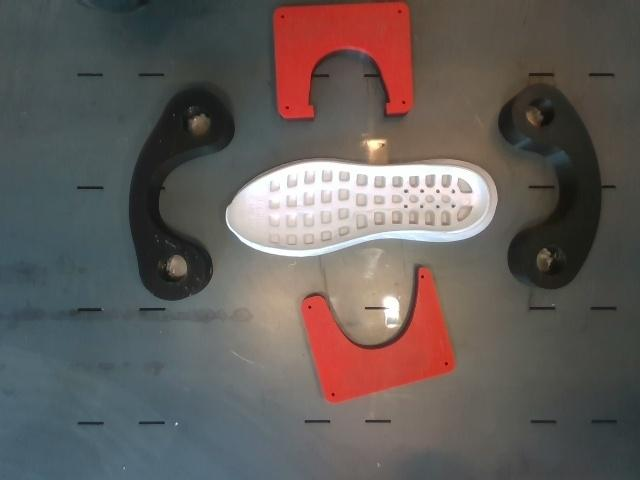shoes: (228, 162, 490, 251)
